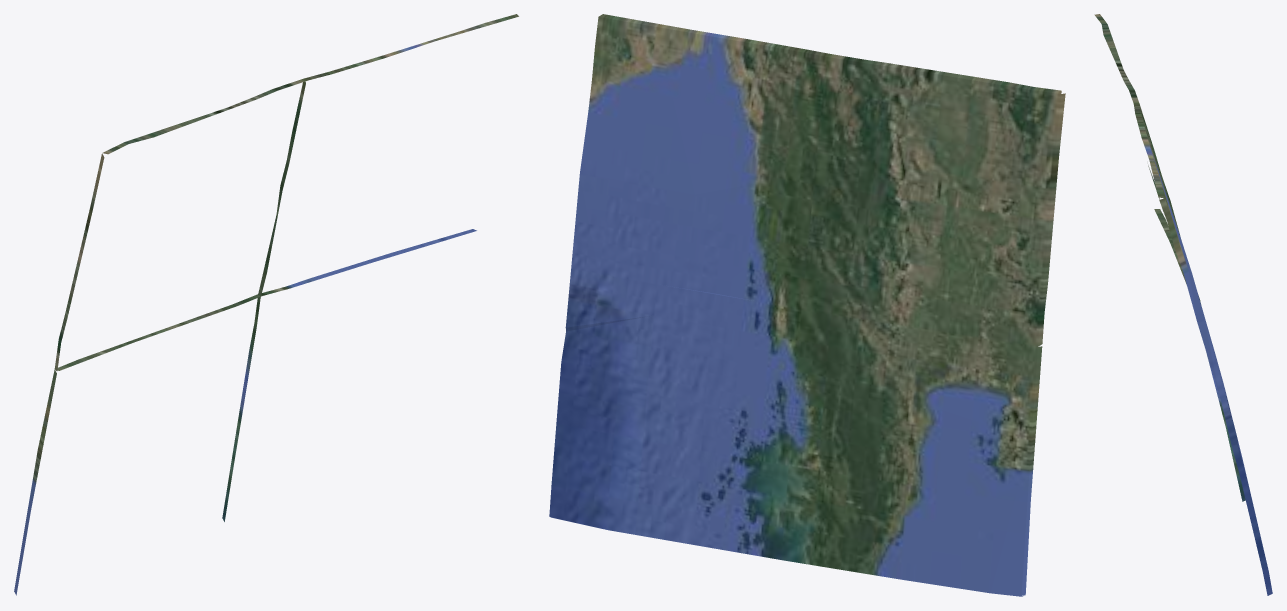
The picture shows the model from 3 angles, left to right: view 1: azimuth 30°, elevation 25°; view 2: azimuth 150°, elevation 25°; view 3: azimuth 270°, elevation 25°; orthographic projection. The views are drawn at different scales.
Bounding box in the file's own units: 629936 × 613348 × 244252.
1 material, 1 textured.
